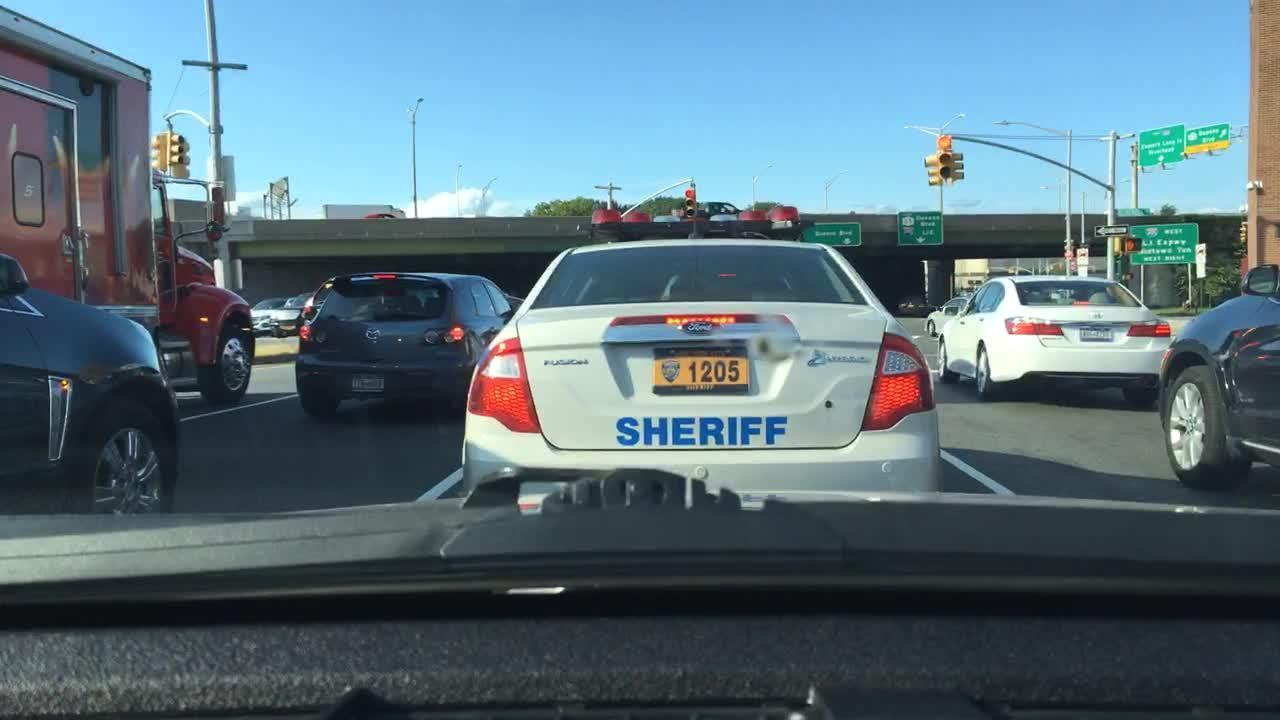Mazda: (362, 326, 388, 342)
ford: (682, 316, 714, 337)
